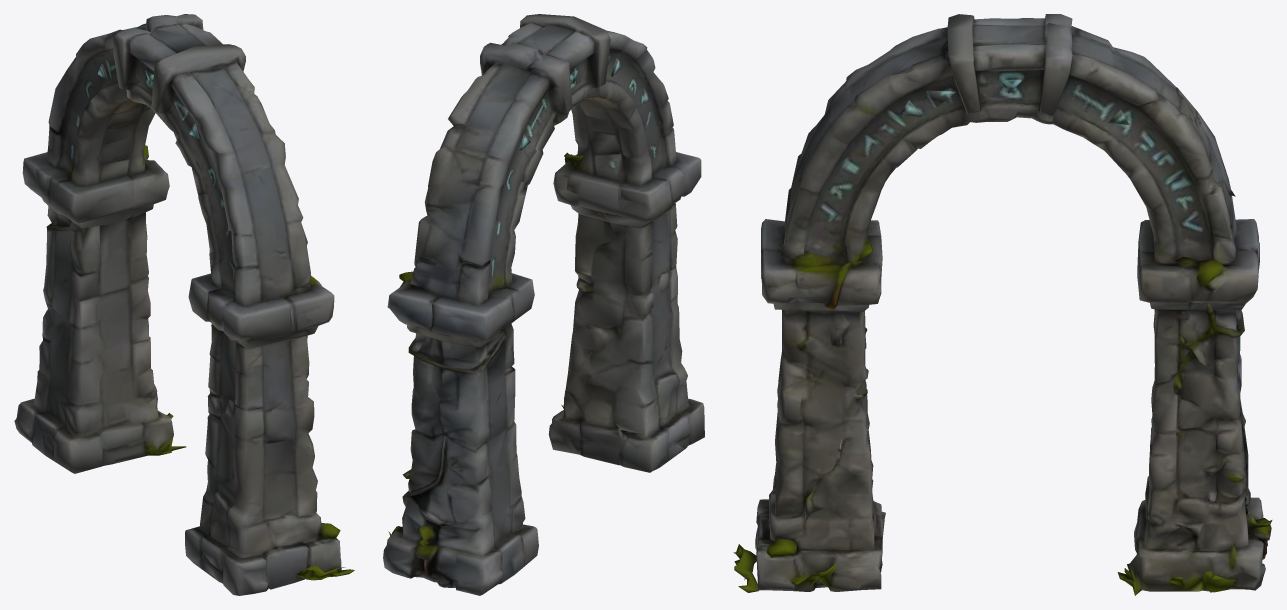
Rendered from env_waygate.glb.
The picture shows the model from 3 angles, left to right: view 1: azimuth 30°, elevation 25°; view 2: azimuth 150°, elevation 25°; view 3: azimuth 270°, elevation 25°; orthographic projection. The views are drawn at different scales.
Visible parts, largest first — view 1: tripo_node_7025c346-8015-421f-ab1b-c11a0073a64d; view 2: tripo_node_7025c346-8015-421f-ab1b-c11a0073a64d; view 3: tripo_node_7025c346-8015-421f-ab1b-c11a0073a64d.
Part boxes in pixels (x1,y1,x2,y2): tripo_node_7025c346-8015-421f-ab1b-c11a0073a64d: [14, 14, 354, 595]; tripo_node_7025c346-8015-421f-ab1b-c11a0073a64d: [383, 14, 704, 595]; tripo_node_7025c346-8015-421f-ab1b-c11a0073a64d: [733, 14, 1272, 595].
Bounding box in the file's own units: 0.272 × 1 × 0.912.
1 material, 1 textured.
